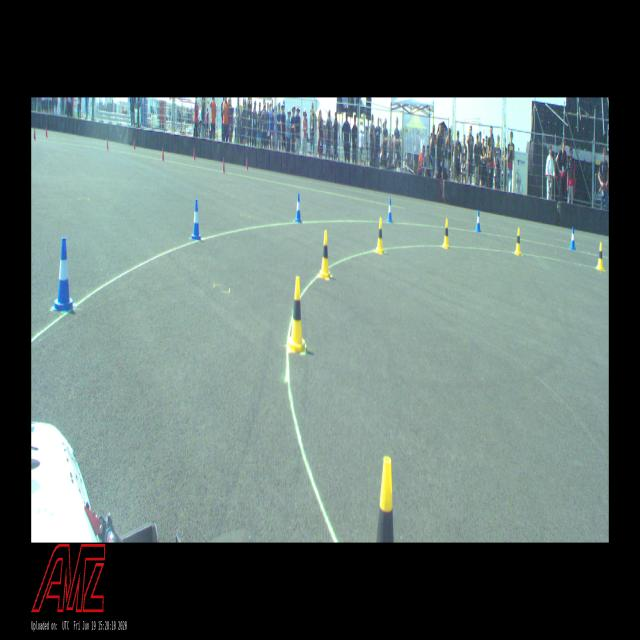blue_cone: (54, 237, 73, 310), (191, 199, 201, 240), (295, 194, 301, 222), (570, 227, 576, 250), (475, 210, 481, 232), (387, 198, 392, 223)
yellow_cone: (376, 456, 394, 541), (288, 276, 305, 354), (320, 230, 330, 278), (375, 217, 384, 253), (442, 218, 450, 248), (596, 242, 604, 271), (515, 227, 521, 254)
